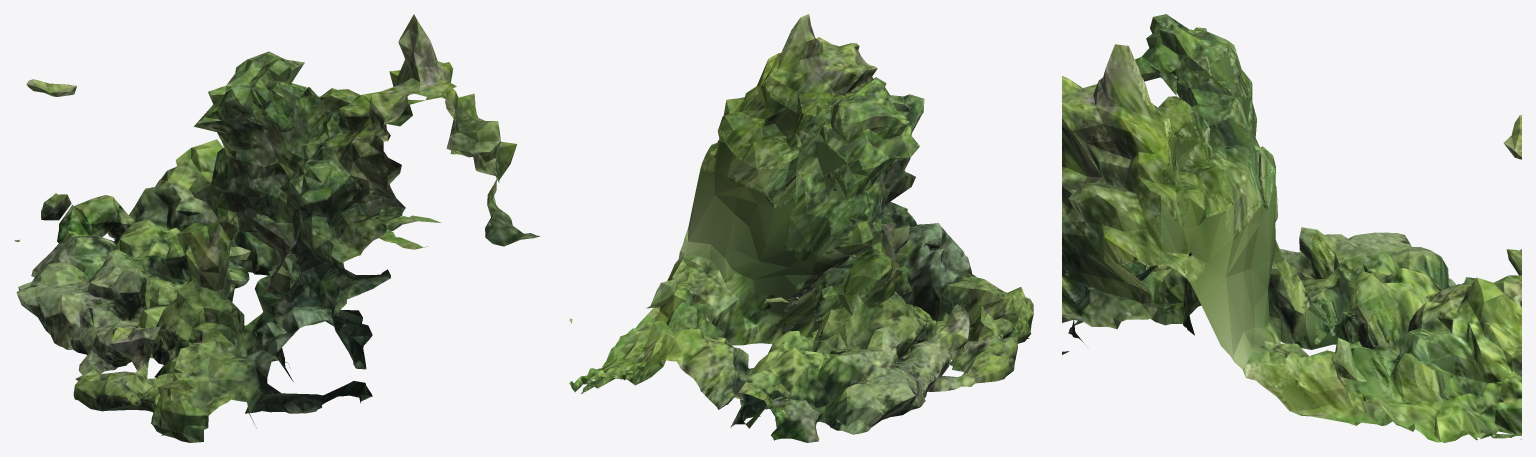
3 views of the same model, side by side, from view 1: azimuth 30°, elevation 25°; view 2: azimuth 150°, elevation 25°; view 3: azimuth 270°, elevation 25° (orthographic). The views are drawn at different scales.
Size of the model in its own units: 26.07 by 21.97 by 26.11.
Materials: 6 (6 with a texture image).
